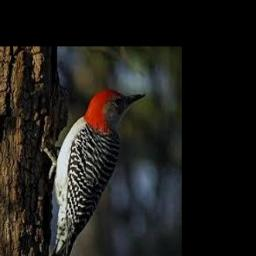Woodpecker: (45, 88, 145, 256)
